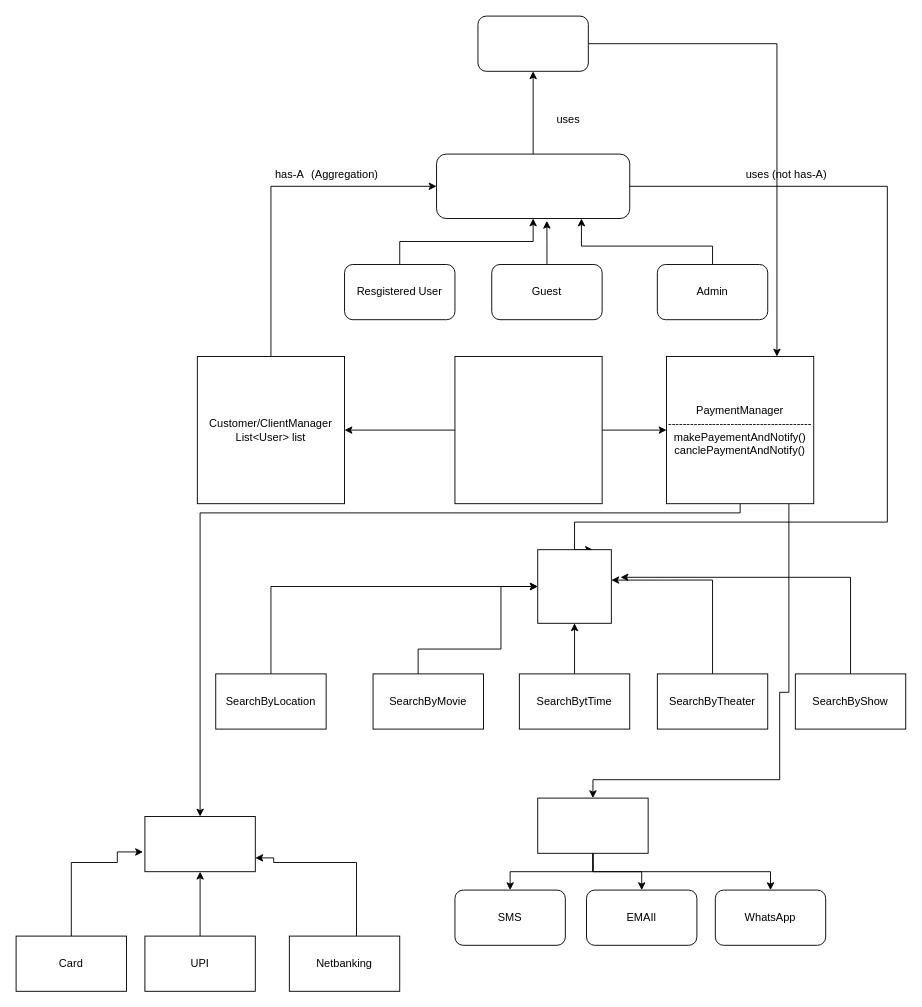
This 922x1007 diagram has some shape labels left out. The shapes that lost their labels are listed below. From the top down, each one's centre as x and y in pixels, then its label:
point (532, 43): BookingManager ----------------------------- bookSeat()
point (533, 185): USER ---------------------------------------------------- name age emailAddress
point (528, 430): BookMyShowManager/Driver -------------------------------------- init()
point (574, 586): Search/Manager
point (199, 844): PaymentMode
point (592, 825): NotificationService
